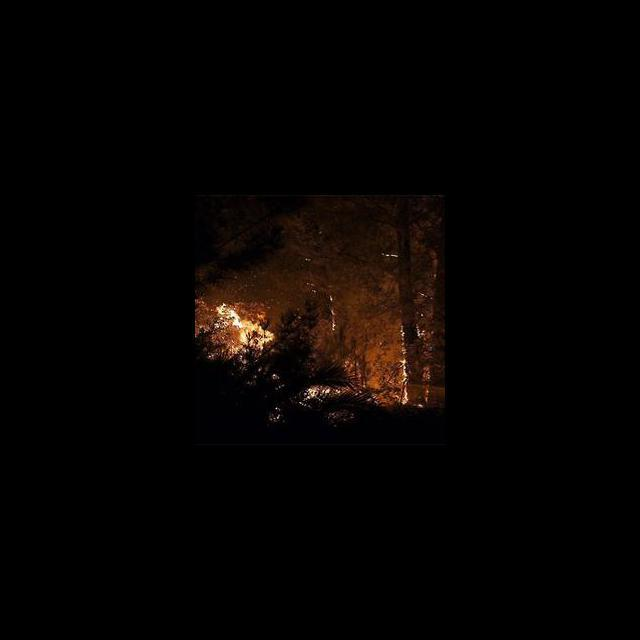Fire: (195, 284, 282, 367)
